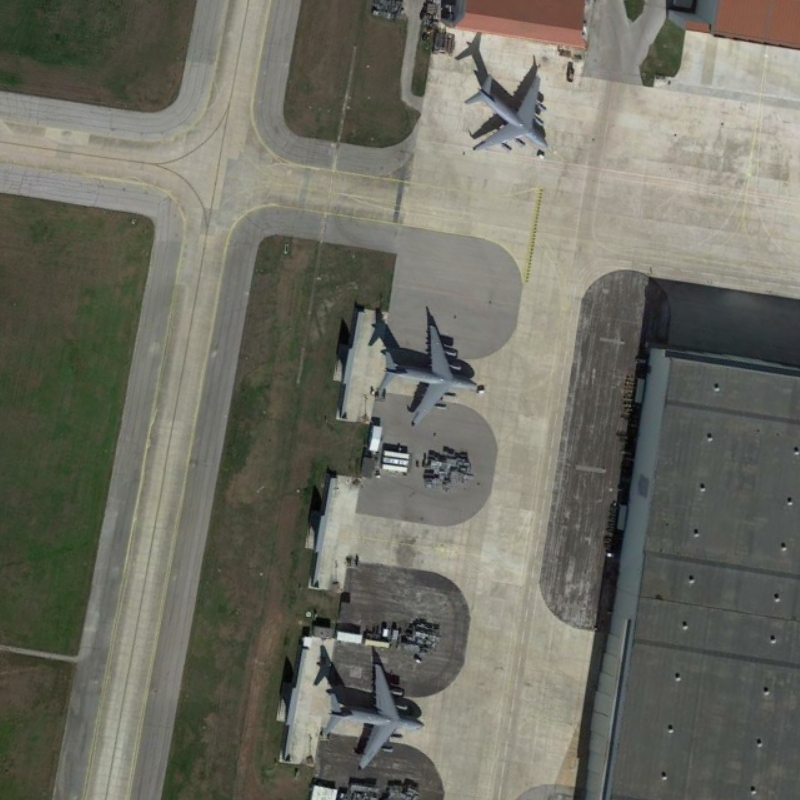A3: (316, 655, 434, 769), (373, 316, 483, 430), (465, 68, 555, 160)
